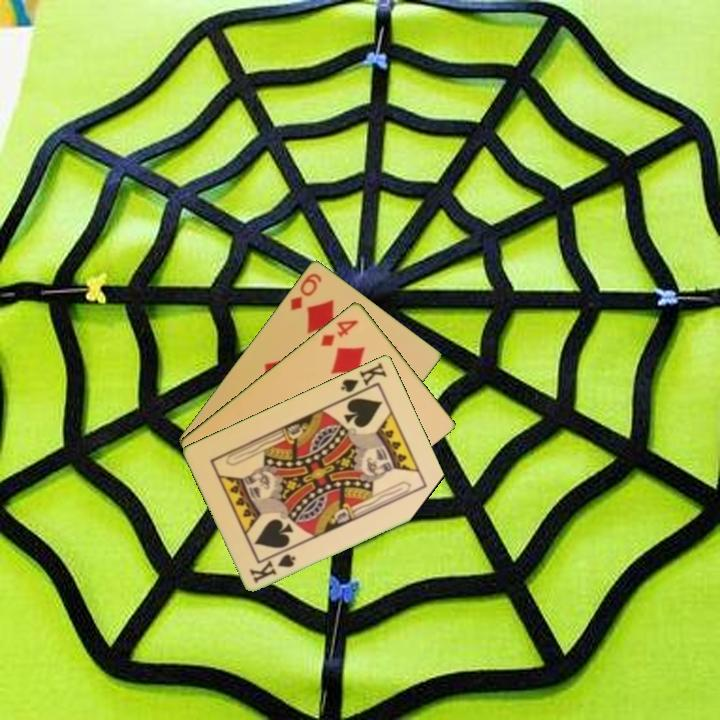4d: (317, 316, 361, 349)
6d: (286, 269, 325, 313)
Ks: (337, 358, 390, 395), (246, 550, 299, 586)
